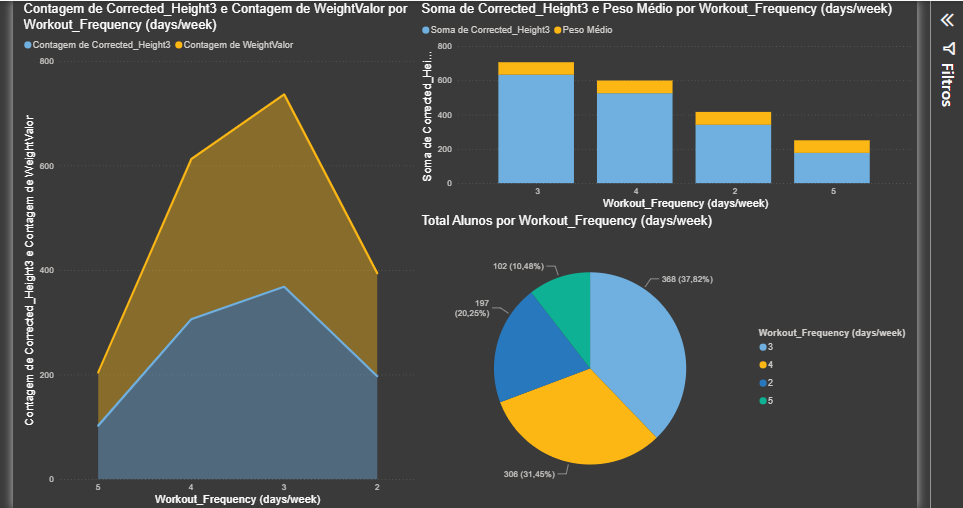

The dashboard page shown, as its layout file describes it:
{"tool":"powerbi","page":{"name":"Relação Peso-Altura/NTreino","canvas":[1280,720],"ordinal":2},"visuals":[{"type":"stackedAreaChart","fields":{"Category":["gym_members_exercise_tracking.Workout_Frequency (days/week)"],"Y":["CountNonNull(gym_members_exercise_tracking.Corrected_Height3)","CountNonNull(gym_members_exercise_tracking.WeightValor)"]},"box":[9.9,0,564.1,720],"z":0},{"type":"pieChart","fields":{"Category":["gym_members_exercise_tracking.Workout_Frequency (days/week)","gym_members_exercise_tracking.Corrected_Height3"],"Y":["gym_members_exercise_tracking.Total Alunos"]},"box":[574,300.5,705.8,419.5],"z":1000},{"type":"columnChart","fields":{"Category":["gym_members_exercise_tracking.Workout_Frequency (days/week)"],"Y":["Sum(gym_members_exercise_tracking.Corrected_Height3)","gym_members_exercise_tracking.Peso Médio"]},"box":[574,0,705.8,300.5],"z":4000}]}

Visuals, with their boxes on the page's 1280x720 design canvas (x1, y1, x2, y2). These are canvas units, not pixel positions in the 963x508 screenshot, which may show the page scaled, cropped or inside an application window:
stackedAreaChart - gym_members_exercise_tracking.Workout_Frequency (days/week) x CountNonNull(gym_members_exercise_tracking.Corrected_Height3): (x1=10, y1=0, x2=574, y2=720)
pieChart - gym_members_exercise_tracking.Workout_Frequency (days/week) x gym_members_exercise_tracking.Corrected_Height3: (x1=574, y1=300, x2=1280, y2=720)
columnChart - gym_members_exercise_tracking.Workout_Frequency (days/week) x Sum(gym_members_exercise_tracking.Corrected_Height3): (x1=574, y1=0, x2=1280, y2=300)
